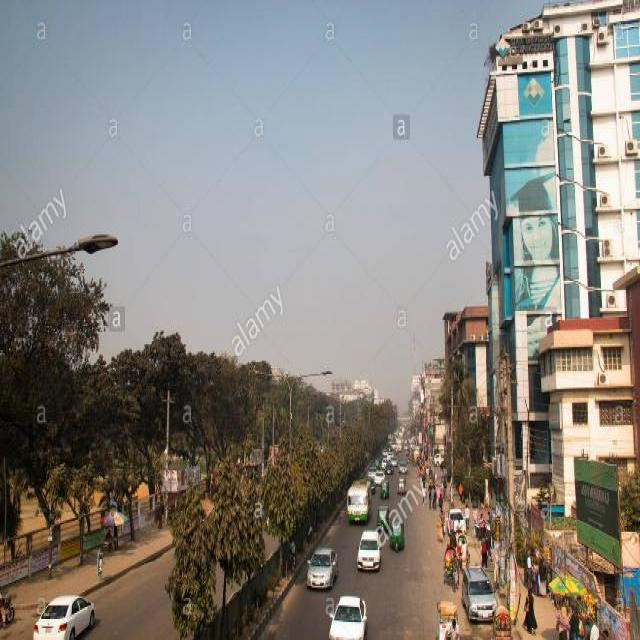bike: (1, 584, 16, 627)
vehicle: (33, 592, 95, 637), (461, 564, 499, 619), (327, 592, 367, 637), (306, 542, 339, 587), (348, 475, 373, 520), (356, 526, 382, 568), (444, 541, 461, 589), (493, 603, 514, 637), (447, 506, 467, 534), (456, 532, 470, 568), (389, 520, 405, 550), (378, 503, 389, 528), (380, 479, 391, 495), (397, 476, 407, 492), (433, 451, 445, 463), (375, 470, 385, 483), (367, 475, 375, 490), (453, 527, 463, 537), (368, 464, 377, 474), (400, 459, 407, 471), (396, 435, 402, 449), (385, 461, 393, 471), (382, 456, 389, 467), (413, 445, 419, 457), (419, 465, 425, 476), (391, 454, 398, 463), (374, 457, 380, 466), (420, 459, 426, 465), (387, 451, 393, 457), (382, 446, 387, 453), (404, 443, 408, 447)
